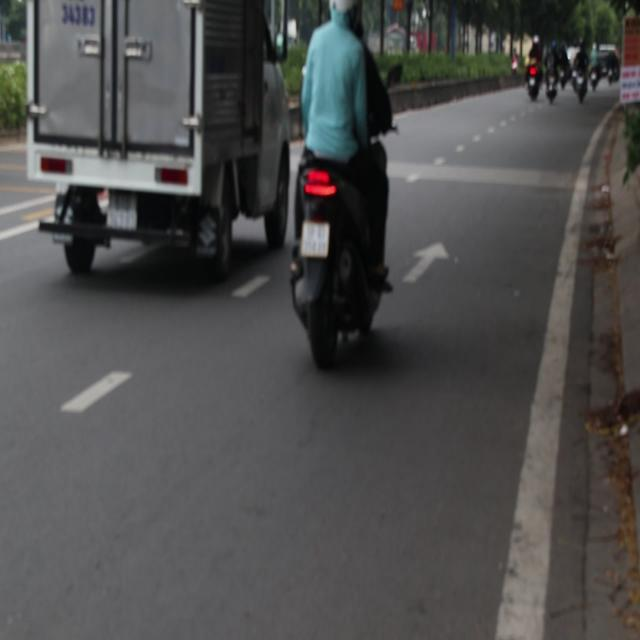motorbike: (282, 152, 387, 372), (544, 62, 559, 113), (527, 60, 543, 103), (560, 60, 572, 90), (580, 76, 586, 105)
truck: (22, 2, 306, 283)
